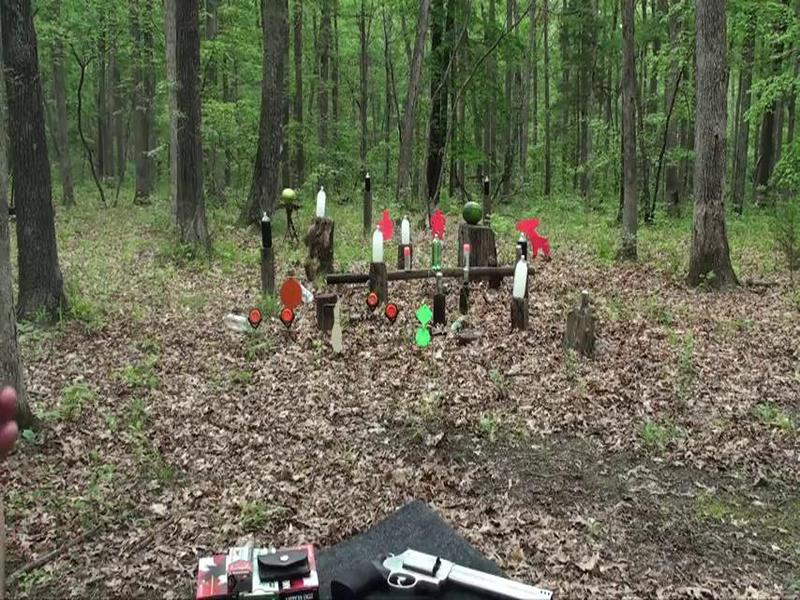Revolver: (317, 538, 589, 600)
